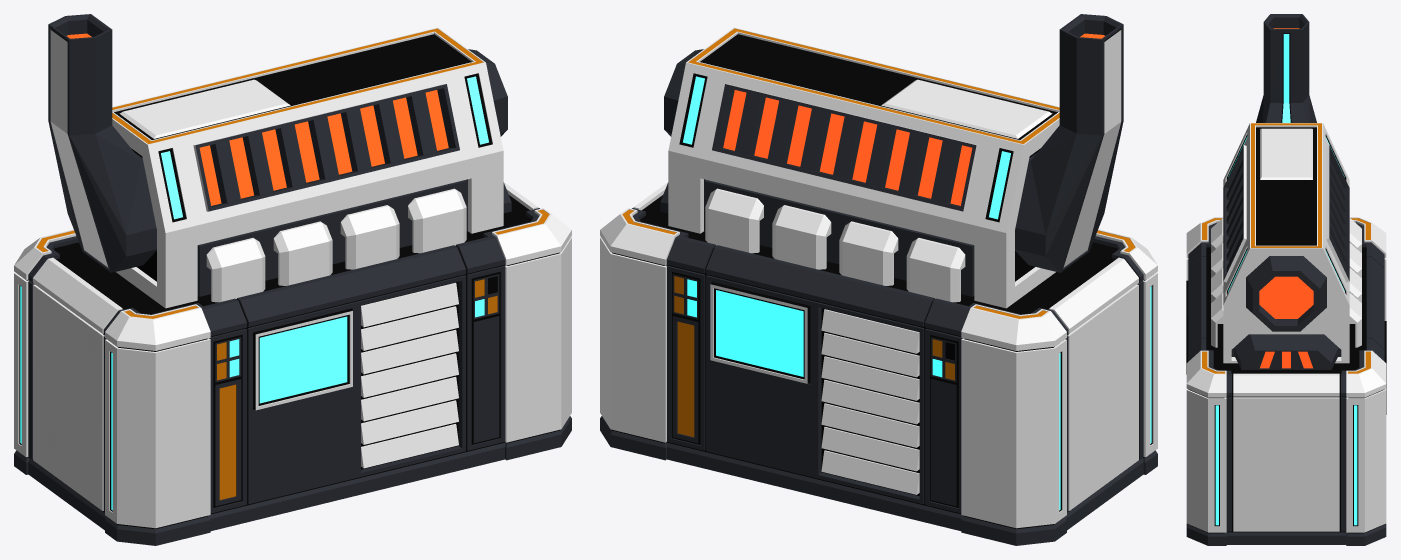
Rendered from SM_Thermal_T1.fbx.
3 views of the same model, side by side, from view 1: azimuth 30°, elevation 25°; view 2: azimuth 150°, elevation 25°; view 3: azimuth 270°, elevation 25° (orthographic). The views are drawn at different scales.
Parts seen in each view (by area): view 1: SM_Thermal_T1; view 2: SM_Thermal_T1; view 3: SM_Thermal_T1.
Boxes of the visible parts, left/top/right/bottom form: SM_Thermal_T1: left=14, top=14, right=571, bottom=545; SM_Thermal_T1: left=600, top=14, right=1157, bottom=545; SM_Thermal_T1: left=1186, top=14, right=1386, bottom=545.
Bounding box in the file's own units: 203 × 199 × 100.
